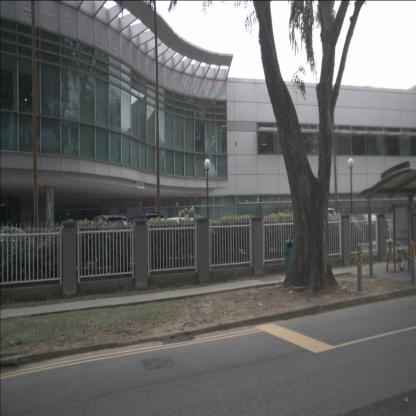vehicle-car: (118, 212, 166, 275), (85, 214, 131, 274), (0, 225, 38, 281), (159, 216, 195, 266), (308, 207, 340, 260), (348, 212, 390, 242)
